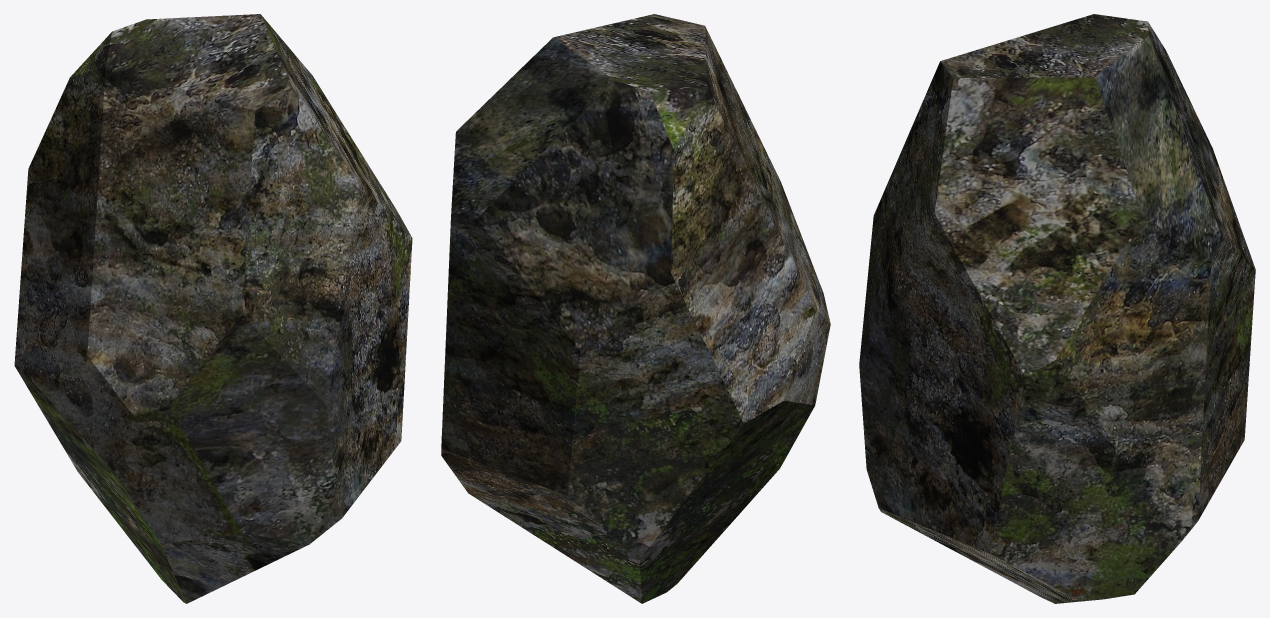
The model's file is Stone1.1.obj.
The picture shows the model from 3 angles, left to right: view 1: azimuth 30°, elevation 25°; view 2: azimuth 150°, elevation 25°; view 3: azimuth 270°, elevation 25°; orthographic projection. The views are drawn at different scales.
Parts seen in each view (by area): view 1: Stone1.1_Cube.002; view 2: Stone1.1_Cube.002; view 3: Stone1.1_Cube.002.
Part boxes in pixels (left/top/right/bottom): Stone1.1_Cube.002: left=14, top=14, right=412, bottom=603; Stone1.1_Cube.002: left=441, top=14, right=830, bottom=603; Stone1.1_Cube.002: left=859, top=14, right=1255, bottom=603.
Size of the model in its own units: 1.62 by 2.48 by 1.55.
Materials: 1 (1 with a texture image).
